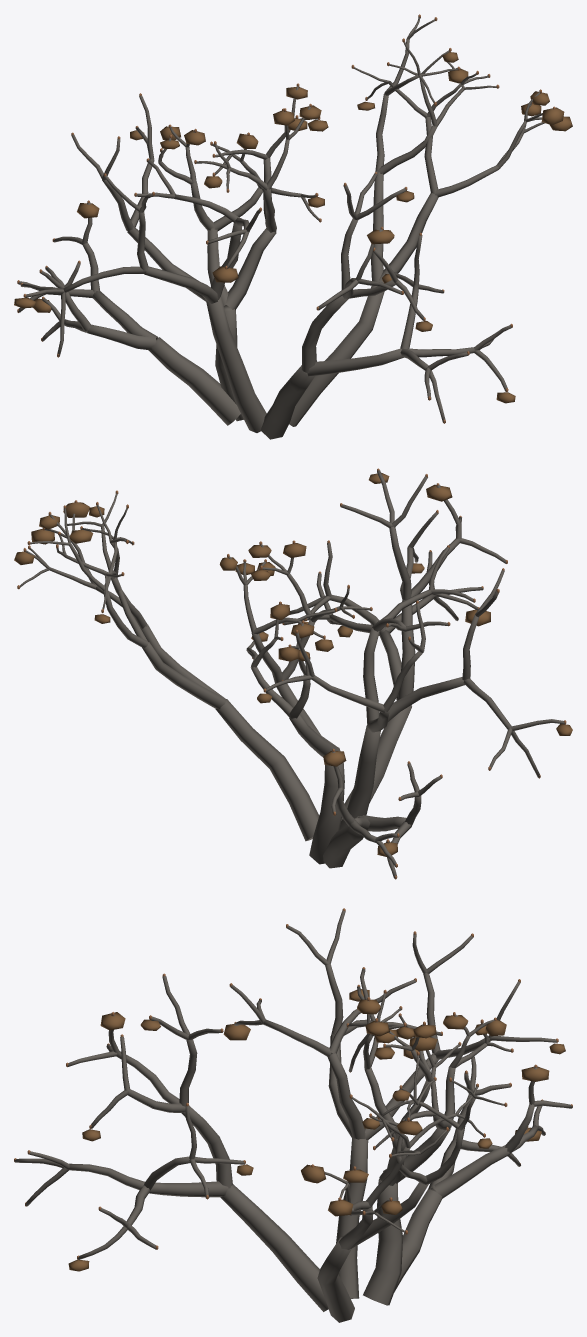
Rendered from scrub_oak_2.glb.
3 renders of one model, top to bottom at view 1: azimuth 30°, elevation 25°; view 2: azimuth 150°, elevation 25°; view 3: azimuth 270°, elevation 25°, orthographic. The views are drawn at different scales.
Visible parts, largest first — view 1: ScrubOak_LimbWood_3, ScrubOak_LimbWood_4, ScrubOak_LimbWood_0, ScrubOak_LimbWood_1, ScrubOak_LimbWood_2; view 2: ScrubOak_LimbWood_3, ScrubOak_LimbWood_0, ScrubOak_LimbWood_4, ScrubOak_LimbWood_1, ScrubOak_LimbWood_2; view 3: ScrubOak_LimbWood_4, ScrubOak_LimbWood_3, ScrubOak_LimbWood_1, ScrubOak_LimbWood_0, ScrubOak_LimbWood_2.
Part boxes in pixels (bbox=[...]): ScrubOak_LimbWood_3: bbox=[21, 95, 266, 432]; ScrubOak_LimbWood_4: bbox=[260, 173, 512, 439]; ScrubOak_LimbWood_0: bbox=[289, 17, 544, 426]; ScrubOak_LimbWood_1: bbox=[158, 86, 319, 421]; ScrubOak_LimbWood_2: bbox=[18, 202, 240, 425]; ScrubOak_LimbWood_3: bbox=[266, 547, 564, 829]; ScrubOak_LimbWood_0: bbox=[20, 493, 319, 841]; ScrubOak_LimbWood_4: bbox=[284, 470, 506, 820]; ScrubOak_LimbWood_1: bbox=[228, 544, 371, 864]; ScrubOak_LimbWood_2: bbox=[323, 751, 441, 878]; ScrubOak_LimbWood_4: bbox=[14, 976, 328, 1311]; ScrubOak_LimbWood_3: bbox=[230, 910, 556, 1298]; ScrubOak_LimbWood_1: bbox=[348, 993, 511, 1305]; ScrubOak_LimbWood_0: bbox=[317, 1055, 504, 1322]; ScrubOak_LimbWood_2: bbox=[394, 1056, 572, 1292].
Size of what is drawn, in the model's own units: 4.79 by 2.74 by 3.99.
